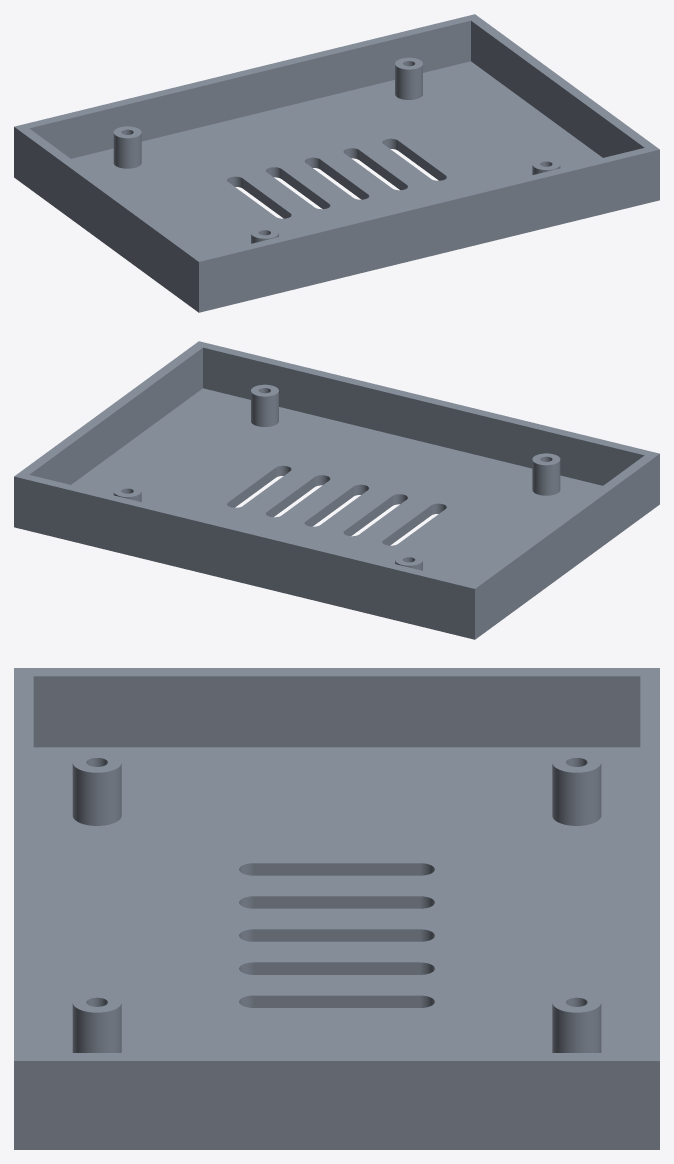
The model's file is step-3.glb.
3 renders of one model, top to bottom at view 1: azimuth 30°, elevation 25°; view 2: azimuth 150°, elevation 25°; view 3: azimuth 270°, elevation 25°, orthographic. The views are drawn at different scales.
Visible parts, largest first — view 1: face_43f4e6e3db25fa9c8f74, face_0a1af4f70dc0b933c76f, face_3a83df4b654593695a58, face_952ca9065dc4f911b8a1, face_67f7afac1748b4e15a77, face_ee90ee5599698850c4bf, face_0076d322353689d34e9e, face_ab7e9459e58d4edf25d3, face_fb6cc616eae8f0f8c2d4, face_5166a4a599c2caba250a, face_2e5ffb3b8f06c49ac1cd, face_7438a1e412abc15cea6b (+1 smaller); view 2: face_43f4e6e3db25fa9c8f74, face_8149a7740fc6ddde22ef, face_eca590c086bdf80de5ad, face_952ca9065dc4f911b8a1, face_67f7afac1748b4e15a77, face_ee90ee5599698850c4bf, face_b7f1f67ce0578a718de9, face_19cde01a880a691dbd9a, face_fb6cc616eae8f0f8c2d4, face_5166a4a599c2caba250a, face_2e5ffb3b8f06c49ac1cd, face_7438a1e412abc15cea6b (+1 smaller); view 3: face_43f4e6e3db25fa9c8f74, face_7df0aa3fe0bbb4b24e8e, face_ca97dec9b1be6da516c3, face_67f7afac1748b4e15a77, face_b7f1f67ce0578a718de9, face_0076d322353689d34e9e, face_6b01c8b6451973b7d0cb, face_3e965d6c2d2af32456a0, face_c7b6af66a4a5571c6979, face_8715487f460ec90f1080, face_6ed773efd91c32ae9b21, face_19cde01a880a691dbd9a (+5 smaller).
Boxes of the visible parts, x1,y1,x2,y2 form: face_43f4e6e3db25fa9c8f74: [71, 61, 602, 255]; face_0a1af4f70dc0b933c76f: [199, 149, 659, 312]; face_3a83df4b654593695a58: [29, 20, 470, 158]; face_952ca9065dc4f911b8a1: [14, 127, 198, 312]; face_67f7afac1748b4e15a77: [14, 14, 659, 261]; face_ee90ee5599698850c4bf: [471, 21, 644, 157]; face_0076d322353689d34e9e: [113, 133, 141, 168]; face_ab7e9459e58d4edf25d3: [395, 64, 422, 99]; face_fb6cc616eae8f0f8c2d4: [242, 178, 290, 218]; face_5166a4a599c2caba250a: [281, 169, 329, 208]; face_2e5ffb3b8f06c49ac1cd: [320, 159, 367, 199]; face_7438a1e412abc15cea6b: [359, 150, 406, 190]; face_43f4e6e3db25fa9c8f74: [71, 388, 602, 582]; face_8149a7740fc6ddde22ef: [14, 476, 474, 639]; face_eca590c086bdf80de5ad: [203, 347, 644, 485]; face_952ca9065dc4f911b8a1: [475, 454, 659, 639]; face_67f7afac1748b4e15a77: [14, 341, 659, 588]; face_ee90ee5599698850c4bf: [29, 348, 202, 484]; face_b7f1f67ce0578a718de9: [532, 460, 560, 495]; face_19cde01a880a691dbd9a: [251, 391, 278, 426]; face_fb6cc616eae8f0f8c2d4: [383, 505, 431, 545]; face_5166a4a599c2caba250a: [344, 496, 392, 535]; face_2e5ffb3b8f06c49ac1cd: [306, 486, 353, 526]; face_7438a1e412abc15cea6b: [267, 477, 314, 517]; face_43f4e6e3db25fa9c8f74: [33, 747, 640, 1052]; face_7df0aa3fe0bbb4b24e8e: [14, 1061, 659, 1149]; face_ca97dec9b1be6da516c3: [33, 676, 640, 747]; face_67f7afac1748b4e15a77: [14, 668, 659, 1060]; face_b7f1f67ce0578a718de9: [72, 763, 121, 825]; face_0076d322353689d34e9e: [552, 763, 601, 825]; face_6b01c8b6451973b7d0cb: [253, 863, 420, 875]; face_3e965d6c2d2af32456a0: [253, 896, 420, 908]; face_c7b6af66a4a5571c6979: [253, 929, 420, 941]; face_8715487f460ec90f1080: [253, 962, 420, 974]; face_6ed773efd91c32ae9b21: [253, 995, 420, 1007]; face_19cde01a880a691dbd9a: [72, 1003, 121, 1052].
Bounding box in the file's own units: 0.095 × 0.01 × 0.066.
